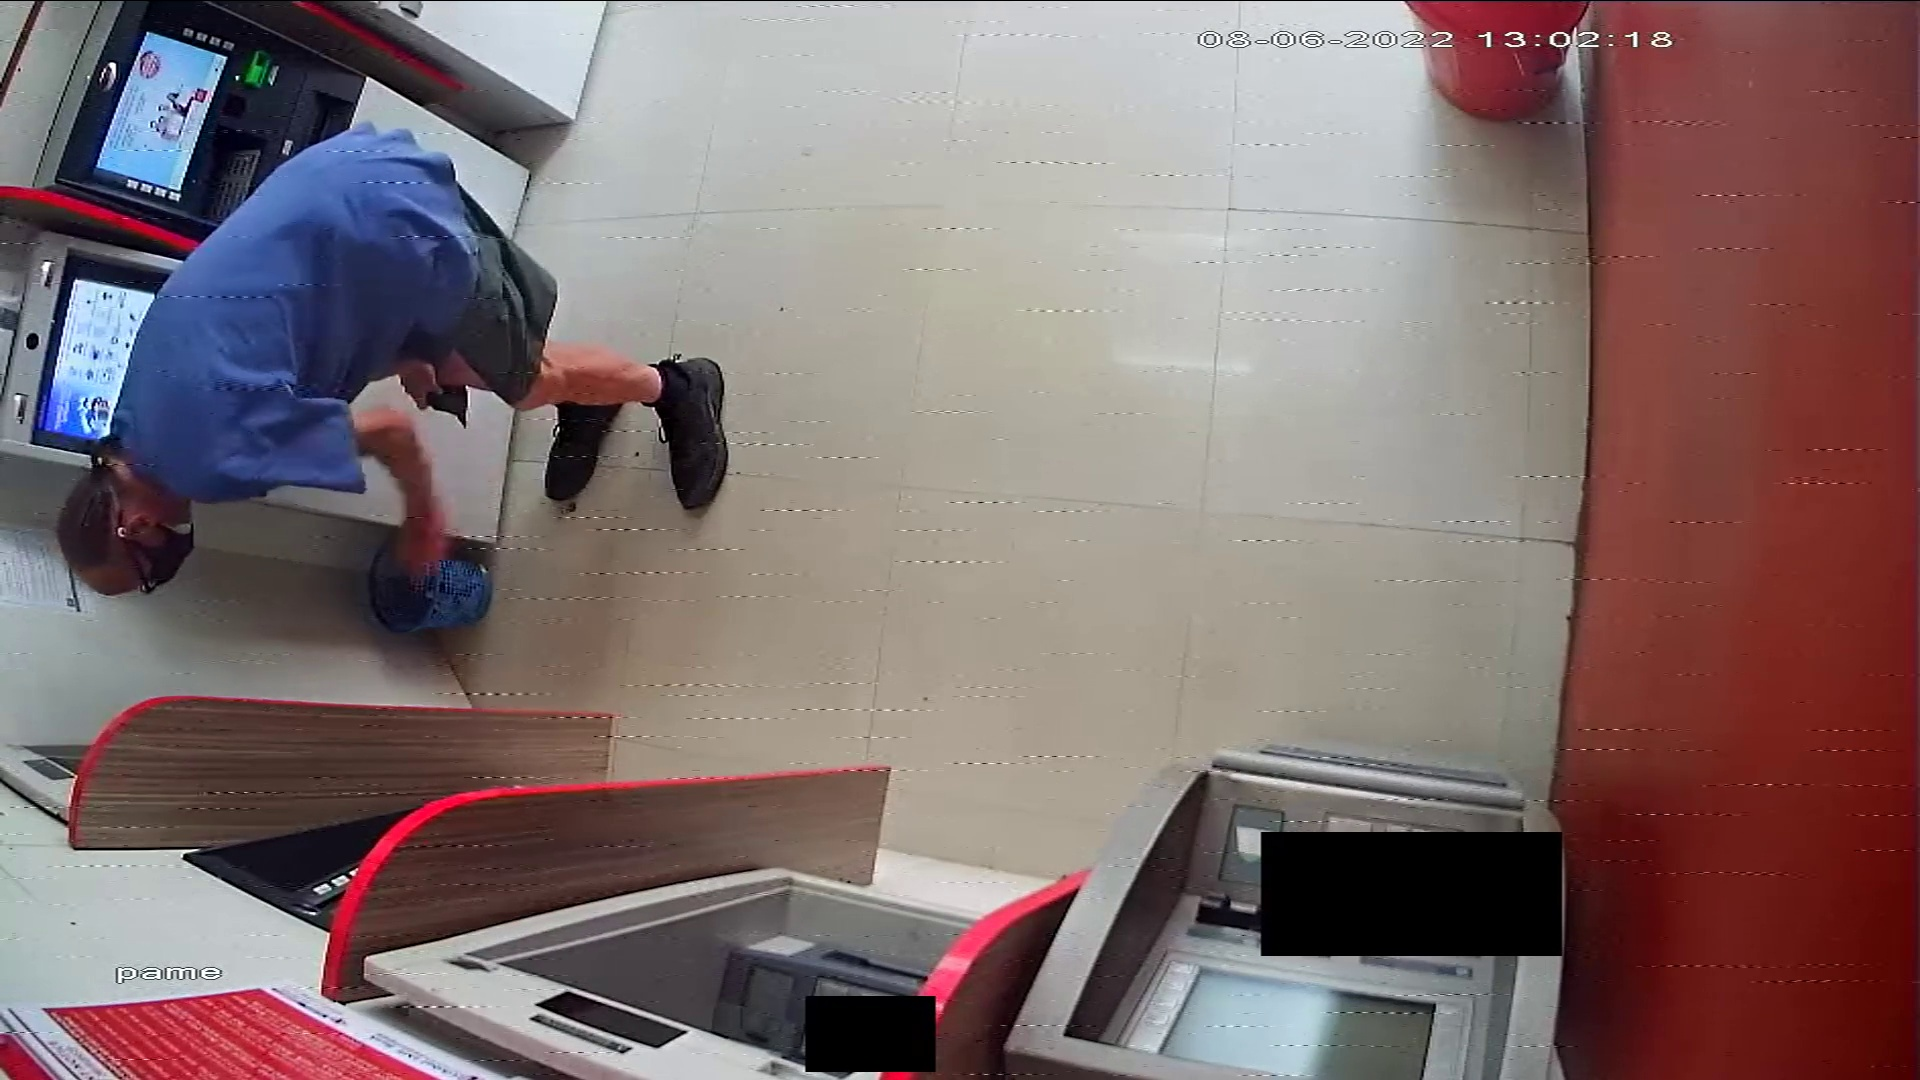person: (54, 114, 738, 601)
